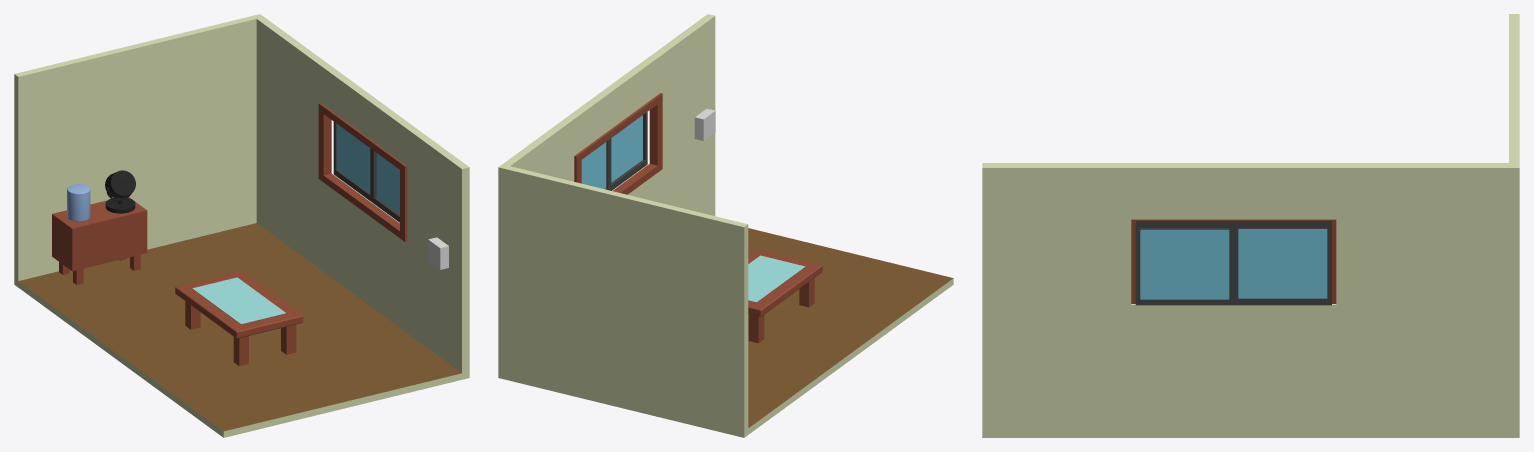
Rendered from BedRoom.glb.
3 renders of one model, left to right at view 1: azimuth 30°, elevation 25°; view 2: azimuth 150°, elevation 25°; view 3: azimuth 270°, elevation 25°, orthographic. The views are drawn at different scales.
Parts seen in each view (by area): view 1: room, 立方体.007, 立方体, 立方体.002, 立方体.001, 円柱, 円柱.004, meter, 立方体.008, 立方体.010; view 2: room, 立方体.007, 立方体.002, 立方体.001, meter, 立方体.011; view 3: room, 立方体.002, 立方体.001.
Part boxes in pixels (x1,y1,x2,y2): room: (14,14,469,437); 立方体.007: (175,271,303,338); 立方体: (52,197,147,271); 立方体.002: (333,121,399,222); 立方体.001: (318,103,407,241); 円柱: (67,184,90,221); 円柱.004: (105,170,135,198); meter: (428,237,448,269); 立方体.008: (281,324,296,354); 立方体.010: (233,336,248,366); room: (498,14,953,437); 立方体.007: (748,249,822,316); 立方体.002: (581,112,647,190); 立方体.001: (574,93,662,194); meter: (694,108,715,140); 立方体.011: (748,314,764,343); room: (982,14,1519,437); 立方体.002: (1135,221,1331,305); 立方体.001: (1131,219,1336,303).
Size of the model in its own units: 2.55 by 2.06 by 3.72.
